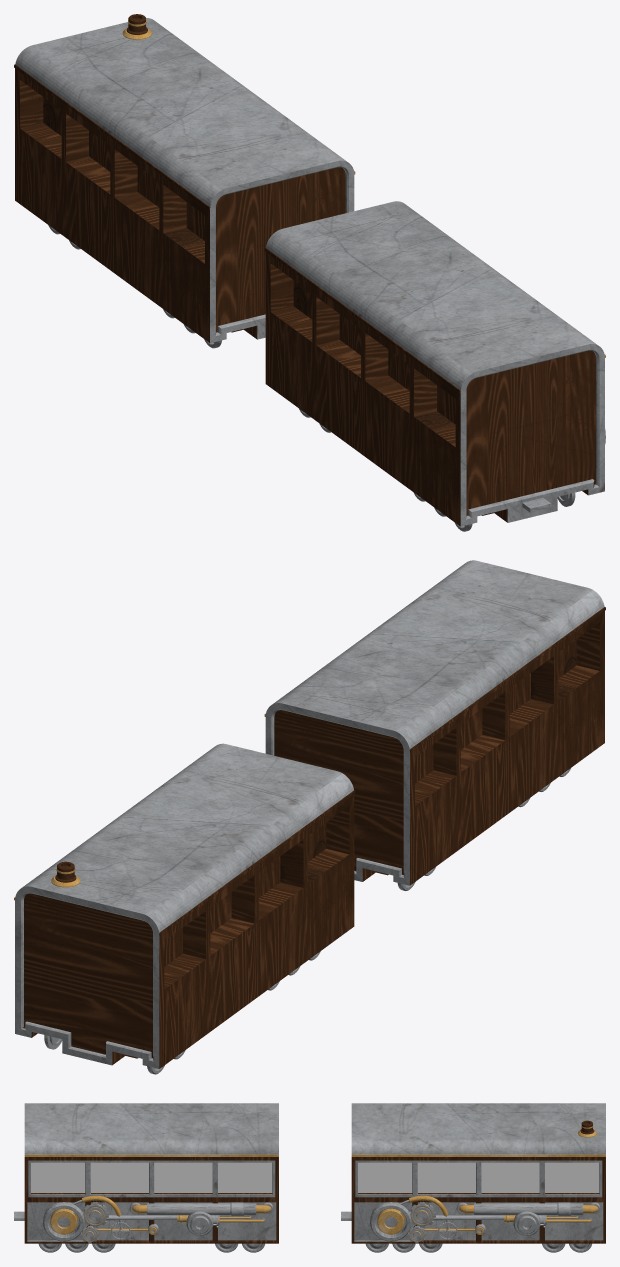
Rendered from trainqnsfl.fbx.
3 renders of one model, top to bottom at view 1: azimuth 30°, elevation 25°; view 2: azimuth 150°, elevation 25°; view 3: azimuth 270°, elevation 25°, orthographic. The views are drawn at different scales.
Visible parts, largest first — view 1: Cube.001, Cube; view 2: Cube, Cube.001; view 3: Cube.001, Cube, Cylinder, Cylinder.083, Cylinder.001, Cylinder.082, Cylinder.043, Cylinder.049, Cylinder.013, Cylinder.070, Cylinder.012, Cylinder.071 (+6 smaller).
Boxes of the visible parts, x1,y1,x2,y2 form: Cube.001: (264, 201, 605, 526); Cube: (14, 18, 355, 343); Cube: (14, 743, 355, 1068); Cube.001: (264, 560, 605, 885); Cube.001: (14, 1103, 278, 1243); Cube: (341, 1103, 605, 1243); Cylinder: (474, 1202, 583, 1216); Cylinder.083: (147, 1202, 256, 1216); Cylinder.001: (370, 1202, 411, 1241); Cylinder.082: (43, 1202, 84, 1241); Cylinder.043: (82, 1202, 108, 1227); Cylinder.049: (409, 1202, 435, 1227); Cylinder.013: (433, 1215, 504, 1220); Cylinder.070: (106, 1215, 177, 1220); Cylinder.012: (517, 1215, 536, 1233); Cylinder.071: (190, 1215, 209, 1233).
Bounding box in the file's own units: 703 × 786 × 3391.
